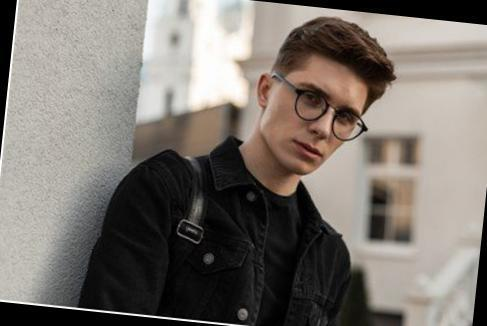Sober: (281, 56, 363, 166)
